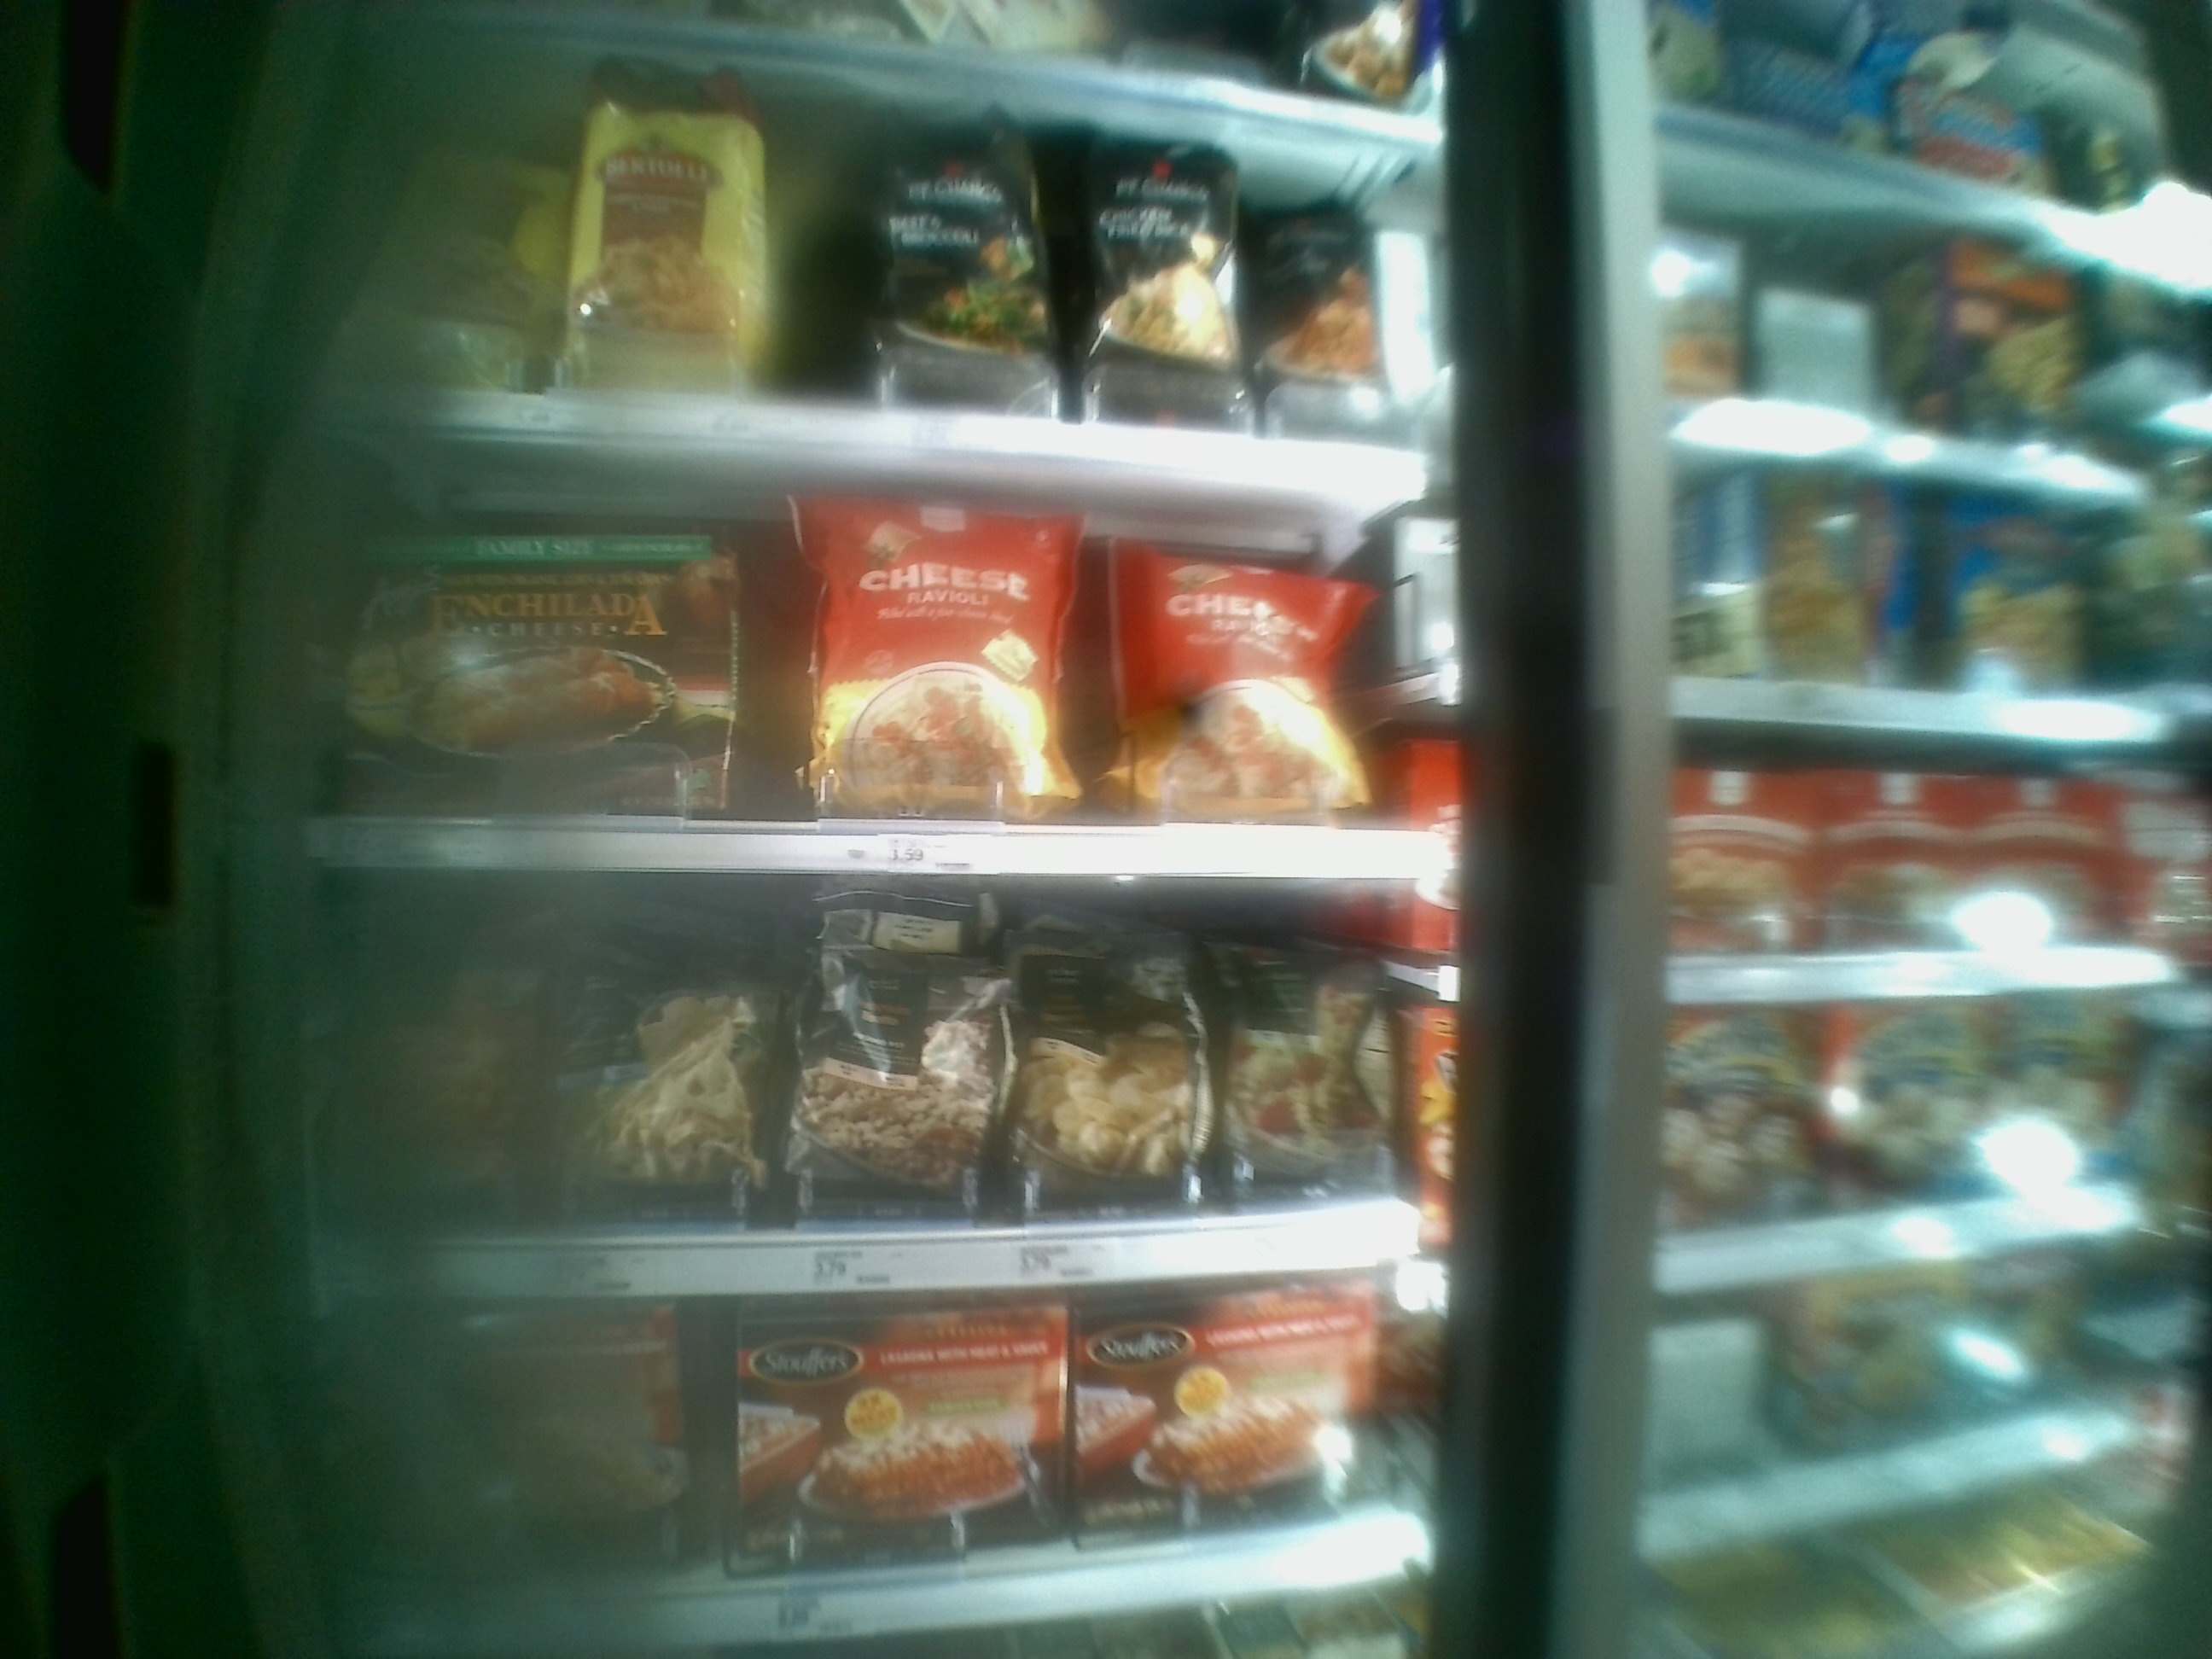shelf: (307, 864, 1420, 1270)
